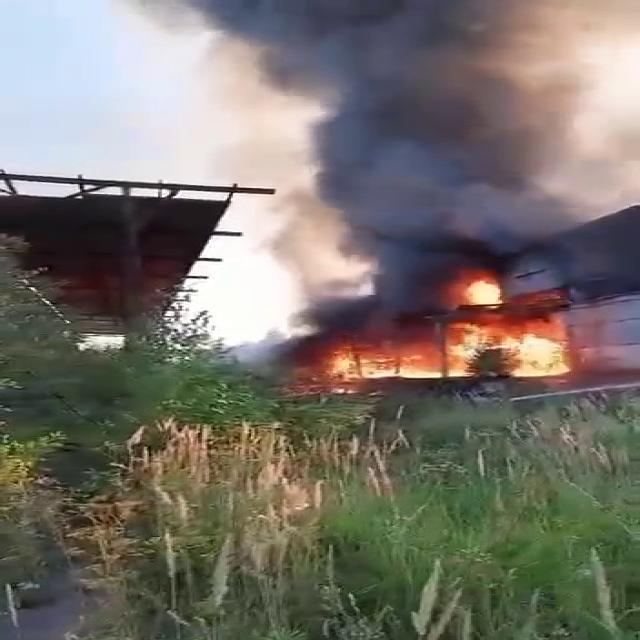Fire: (327, 295, 625, 383), (467, 273, 505, 308)
Smoke: (315, 11, 595, 257)
